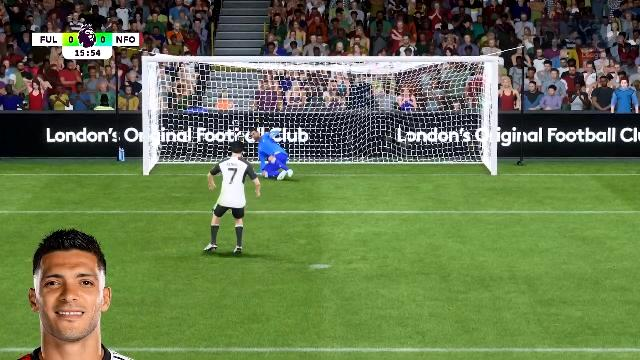bottom-left: (148, 116, 262, 176)
bottom-right: (380, 118, 490, 178)
center-down: (265, 118, 379, 178)
center-up: (264, 62, 378, 116)
football: (374, 87, 386, 99)
goalkeeper: (248, 128, 296, 182)
player: (200, 140, 260, 258)
top-left: (148, 62, 262, 114)
top-right: (381, 63, 492, 116)
